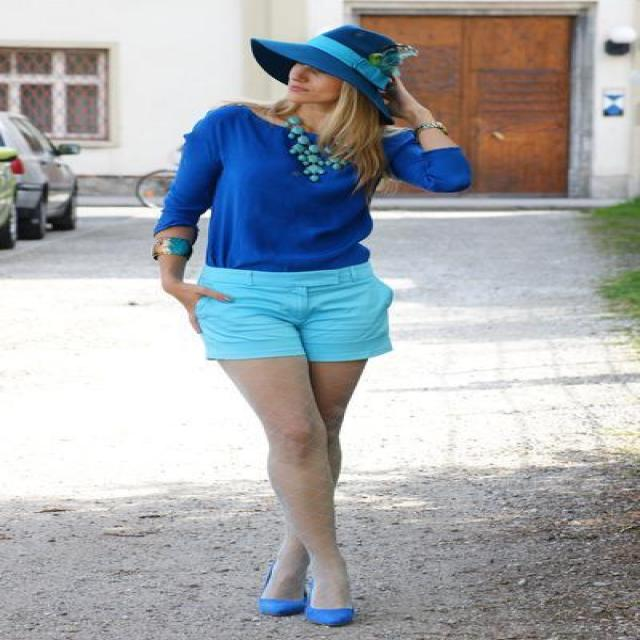hat: (251, 28, 402, 131)
shirt: (154, 104, 470, 271)
shoe: (256, 598, 349, 624)
shorts: (182, 243, 392, 364)
